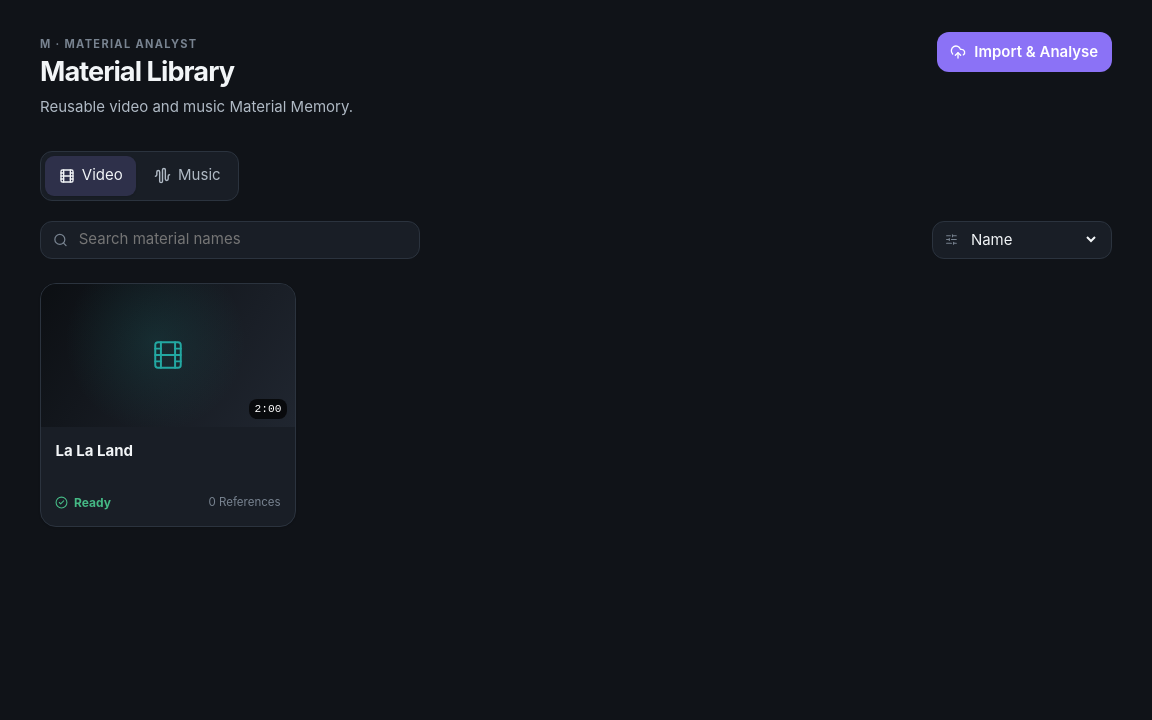
Test: Material Memory deep links › switches the production Material route from video to music
This screenshot has width=1152, height=720.
Expected: the heading "La La Land" is shown, [55,441,133,460]
Click the link "Music": (187, 175) [154,165,221,184]
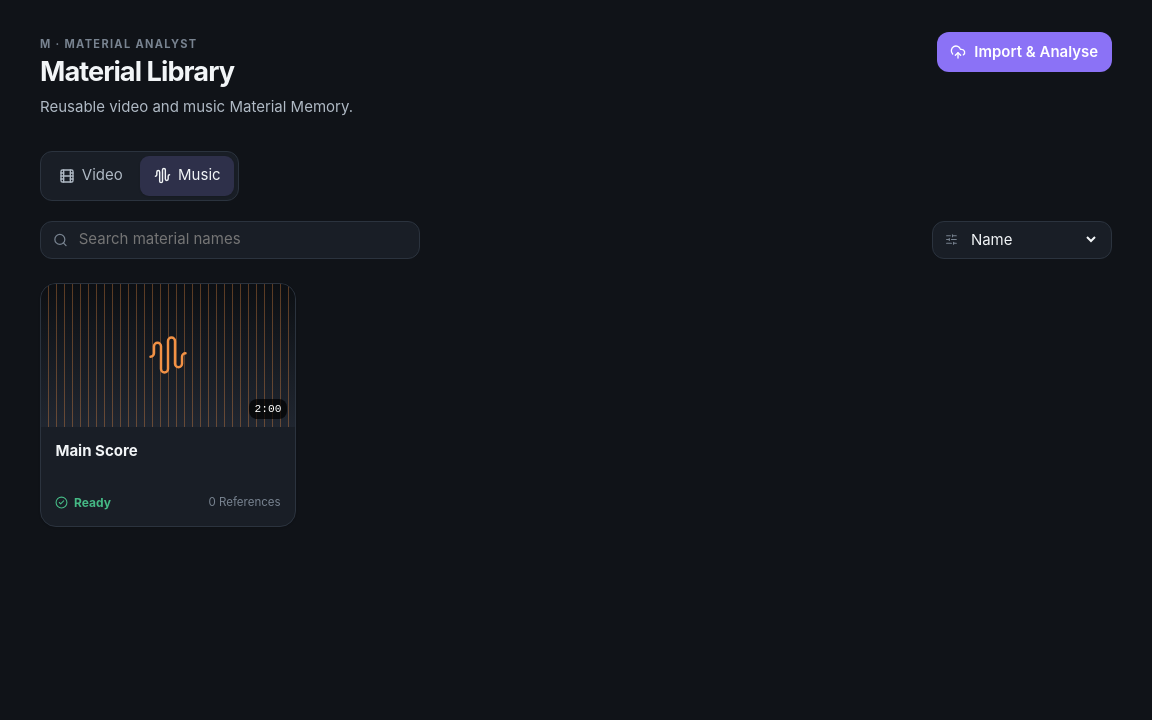
Now the heading "Main Score" is shown, box [55,441,138,460]
Now the link "La La Land" is gone
